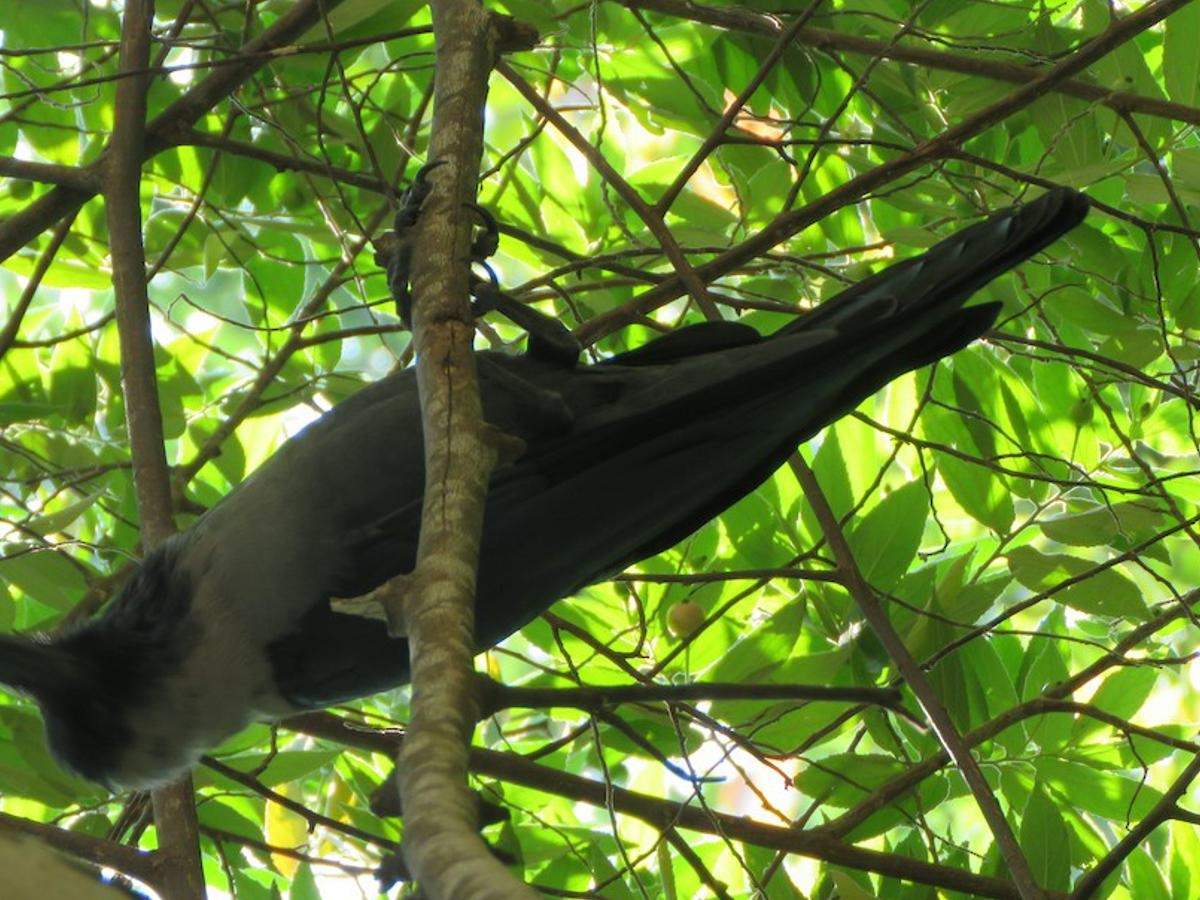crow: (1, 180, 1117, 808)
